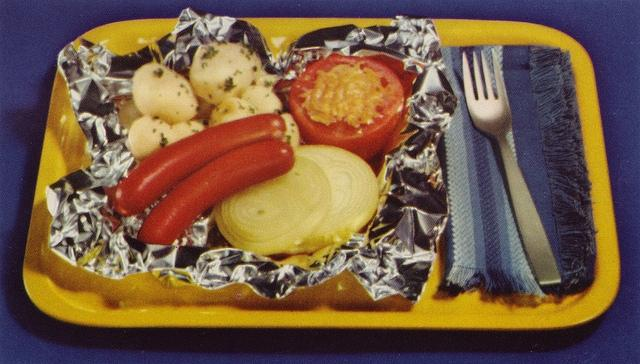onion: (214, 154, 332, 255), (296, 145, 377, 251)
potato: (189, 44, 261, 105), (132, 62, 199, 125), (126, 114, 207, 160), (209, 96, 262, 128), (234, 85, 283, 115), (278, 113, 300, 151), (245, 74, 282, 91)
tomato: (290, 53, 404, 163)
